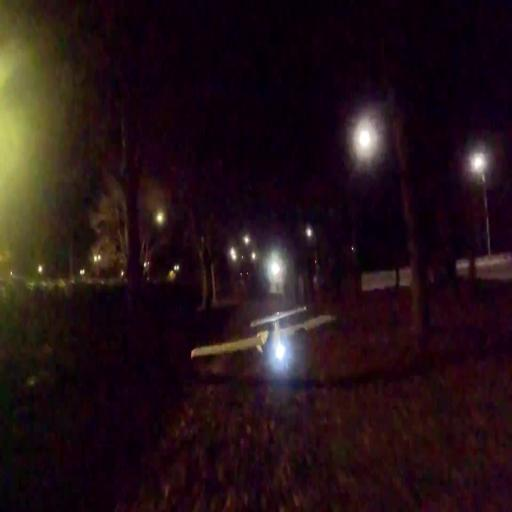uav: (188, 299, 337, 377)
